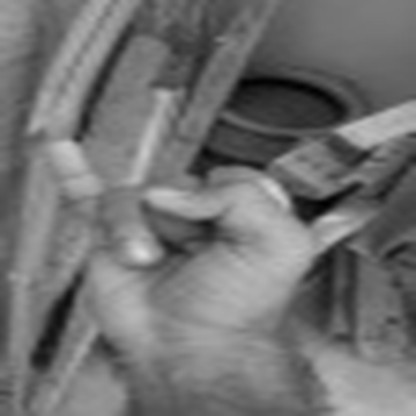i: (25, 99, 334, 343)
